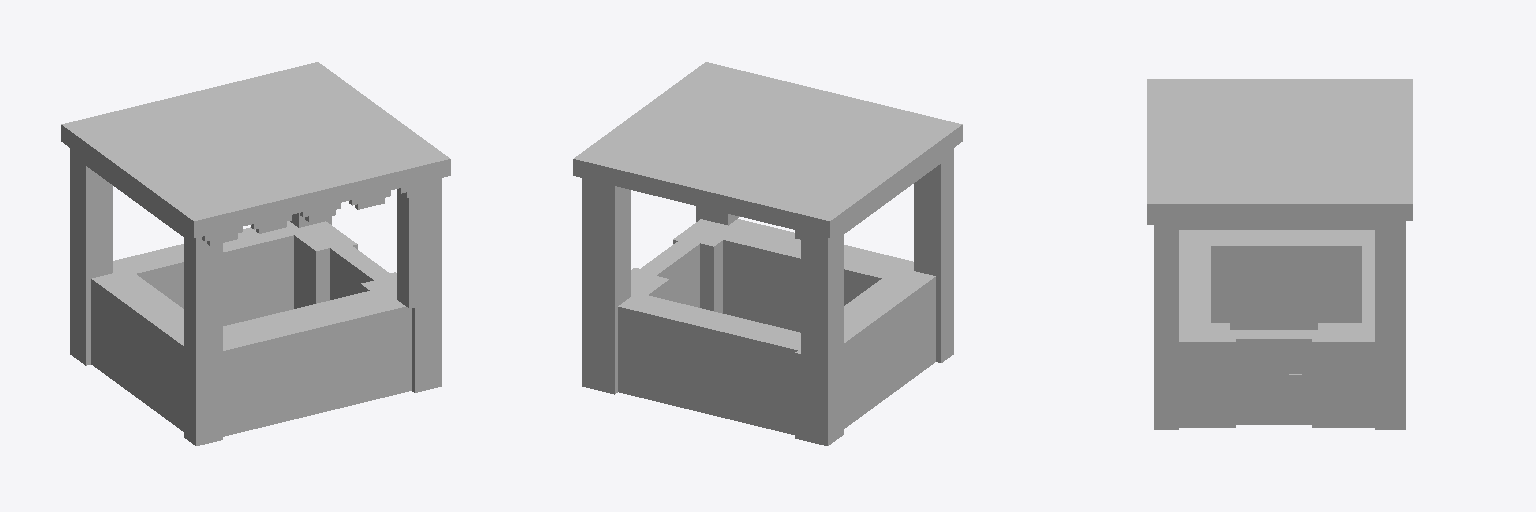
Rendered from shop.obj.
3 renders of one model, left to right at view 1: azimuth 30°, elevation 25°; view 2: azimuth 150°, elevation 25°; view 3: azimuth 270°, elevation 25°, orthographic.
Parts seen in each view (by area): view 1: object 1; view 2: object 1; view 3: object 1.
Part boxes in pixels (bbox=[...]): object 1: bbox=[61, 62, 450, 445]; object 1: bbox=[573, 62, 962, 445]; object 1: bbox=[1147, 79, 1412, 429].
Bounding box in the file's own units: 9.4 × 8 × 8.4.